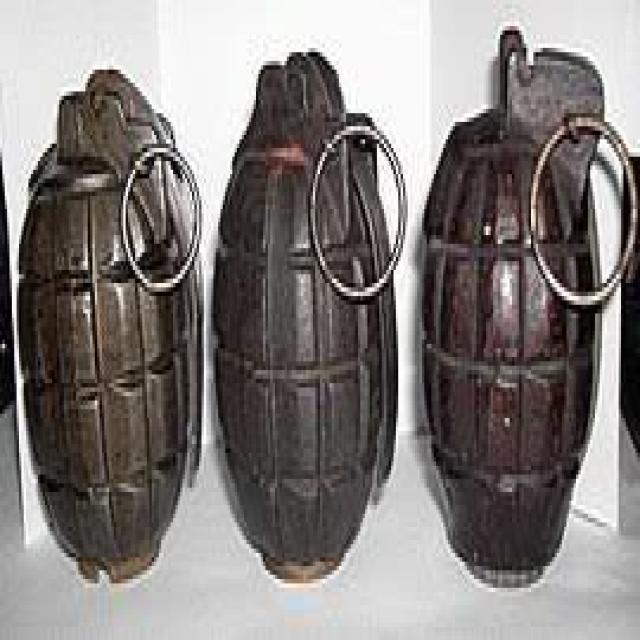grenade: (424, 28, 636, 590), (218, 44, 408, 584), (20, 57, 215, 579)
